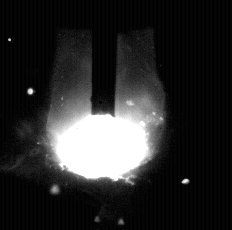arame: (92, 0, 117, 117)
poca: (46, 0, 162, 230)
